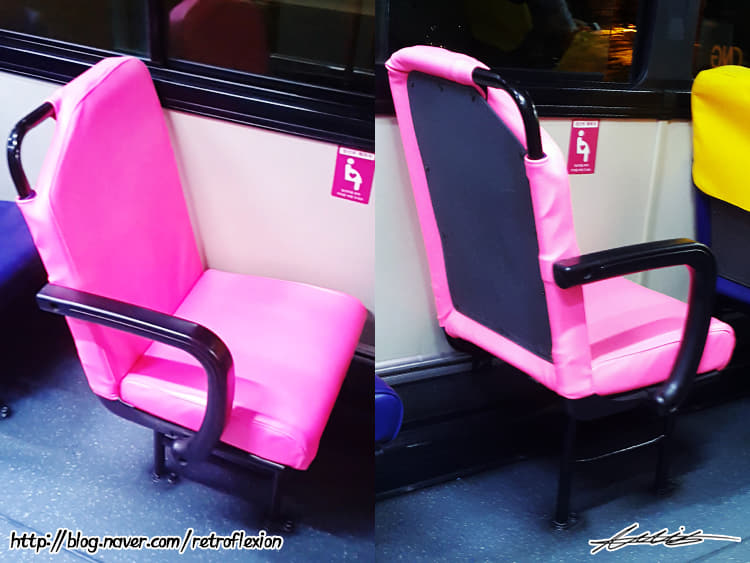seat: (9, 51, 370, 490)
